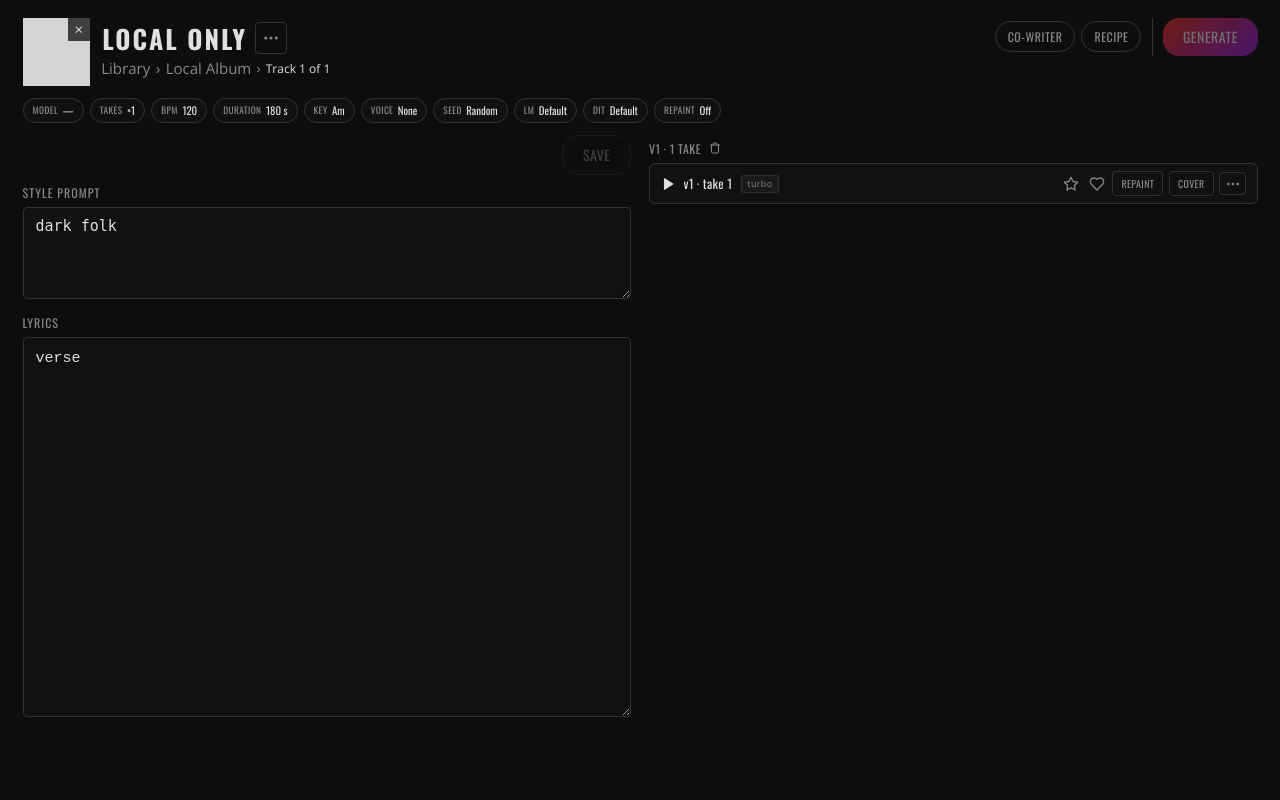
Test: SongDetailView cover hero › removes only the own cover and then inherits the parent album
Click the button with class "cover-remove".
click(79, 29)  # box left=68, top=18, right=90, bottom=40
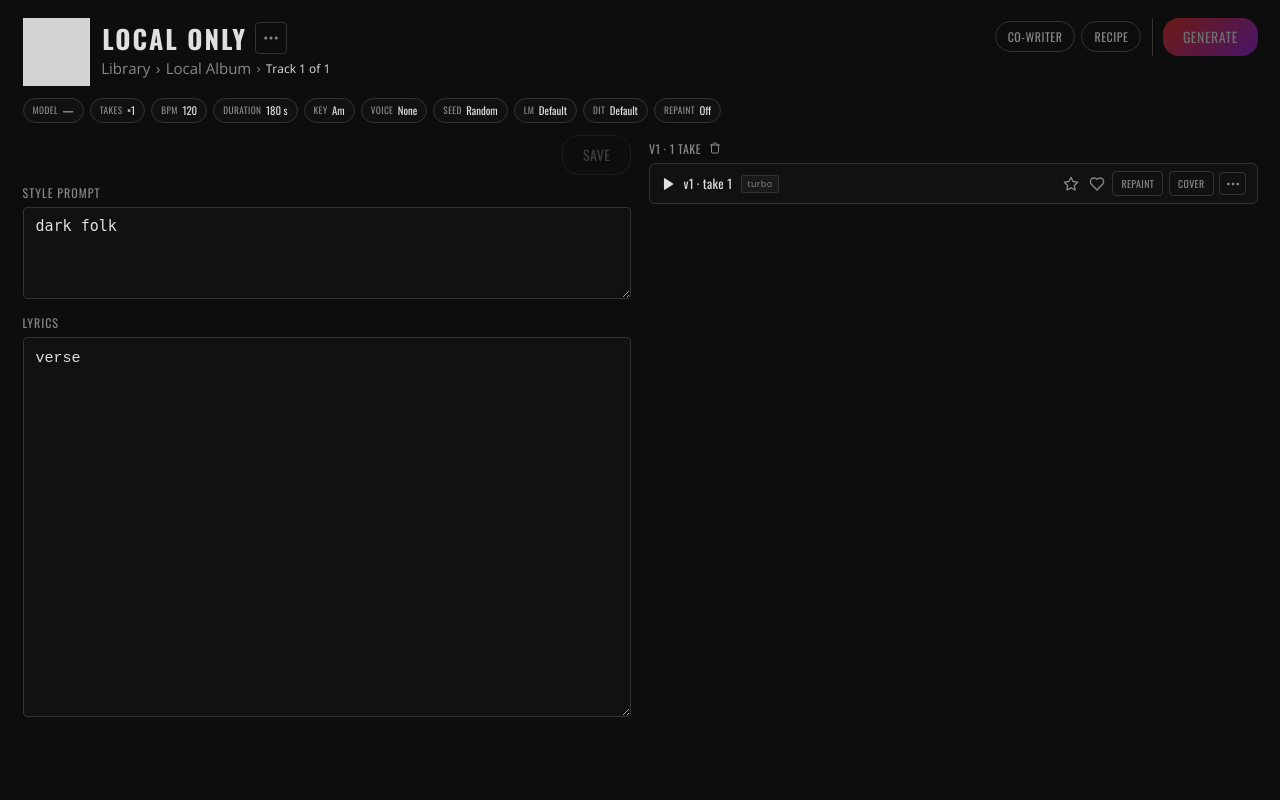
Check: the button with class "cover-remove" is gone
